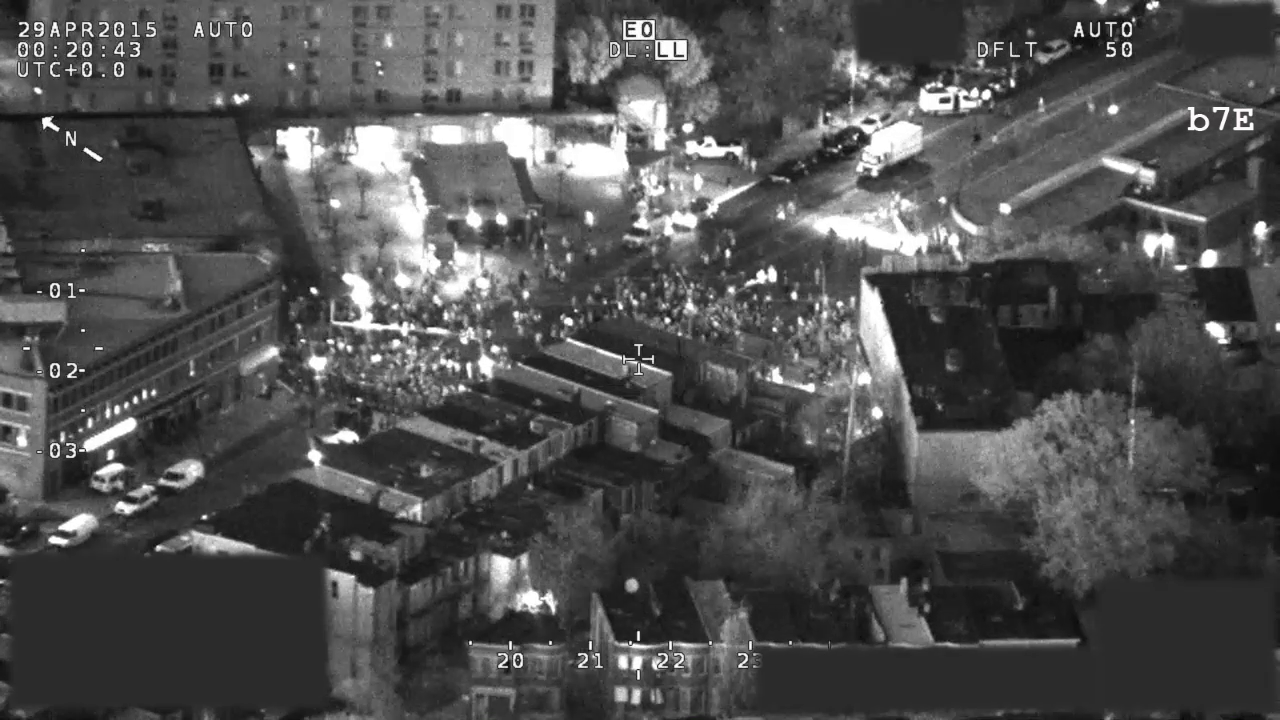vehicle: (854, 116, 925, 180), (915, 81, 985, 119), (684, 132, 752, 170), (616, 210, 675, 252), (672, 187, 722, 235), (87, 458, 140, 498), (49, 510, 101, 550), (809, 124, 868, 159), (157, 455, 208, 494), (110, 483, 160, 520), (559, 301, 626, 328), (1027, 36, 1075, 71), (770, 156, 816, 189), (978, 70, 1033, 97), (850, 103, 892, 138)
